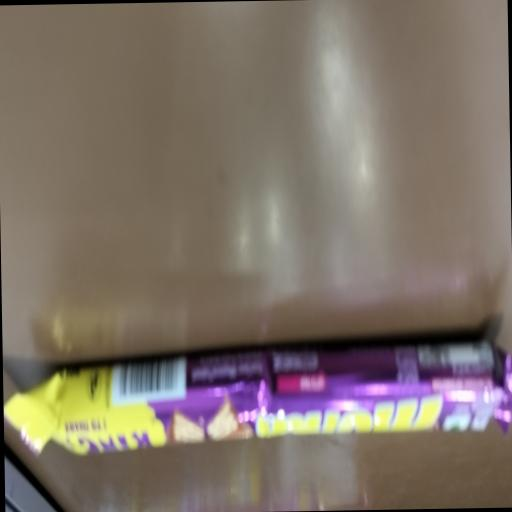chocolate: (3, 326, 512, 461)
munch: (248, 376, 448, 446)
